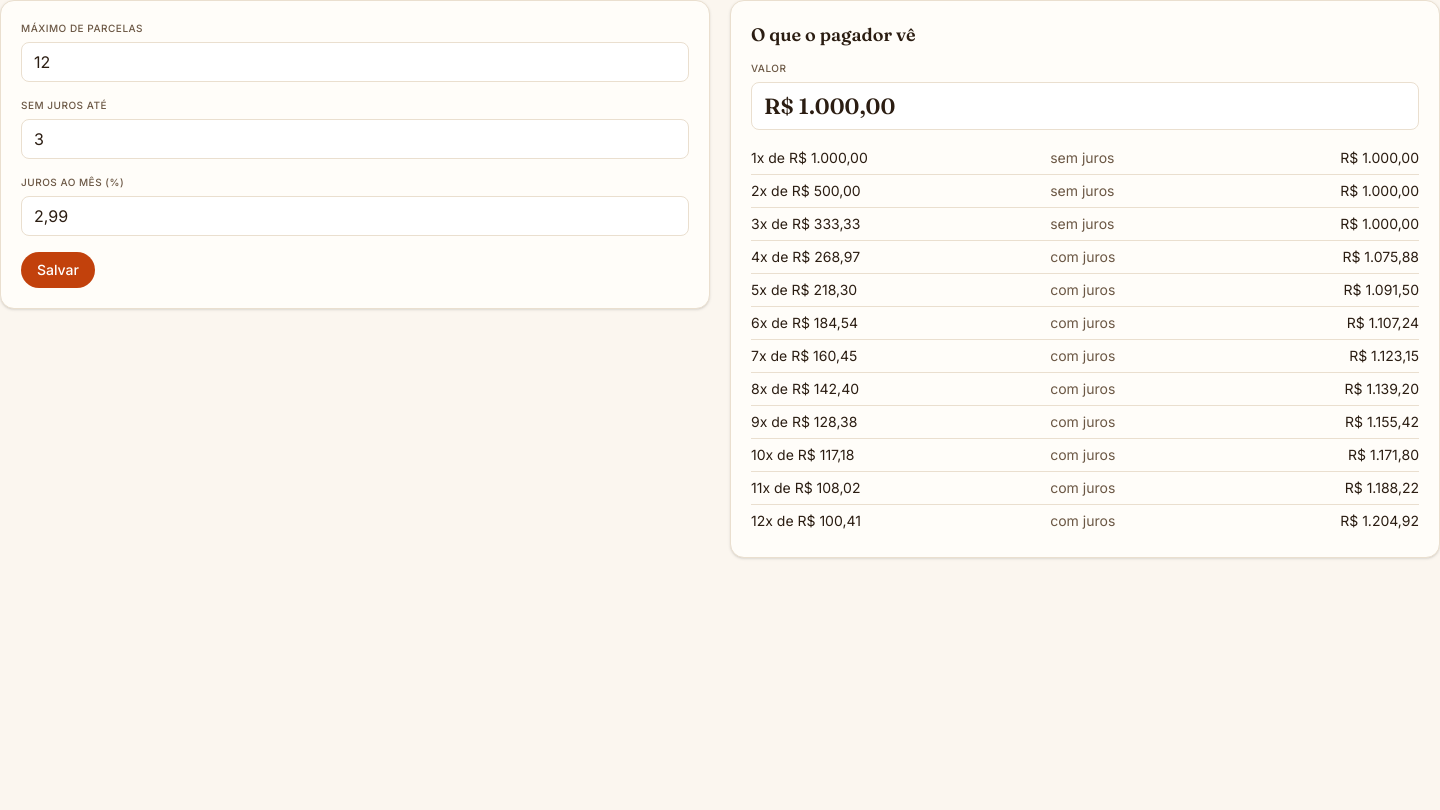
Test: InstallmentSettingsForm › sendsBpsAndShowsTheSavedState
The image size is (1440, 810).
Replace the text in the field labelled "Juros ao mês (%)" with "1,5" at point(355, 216), box [21,196,689,236]
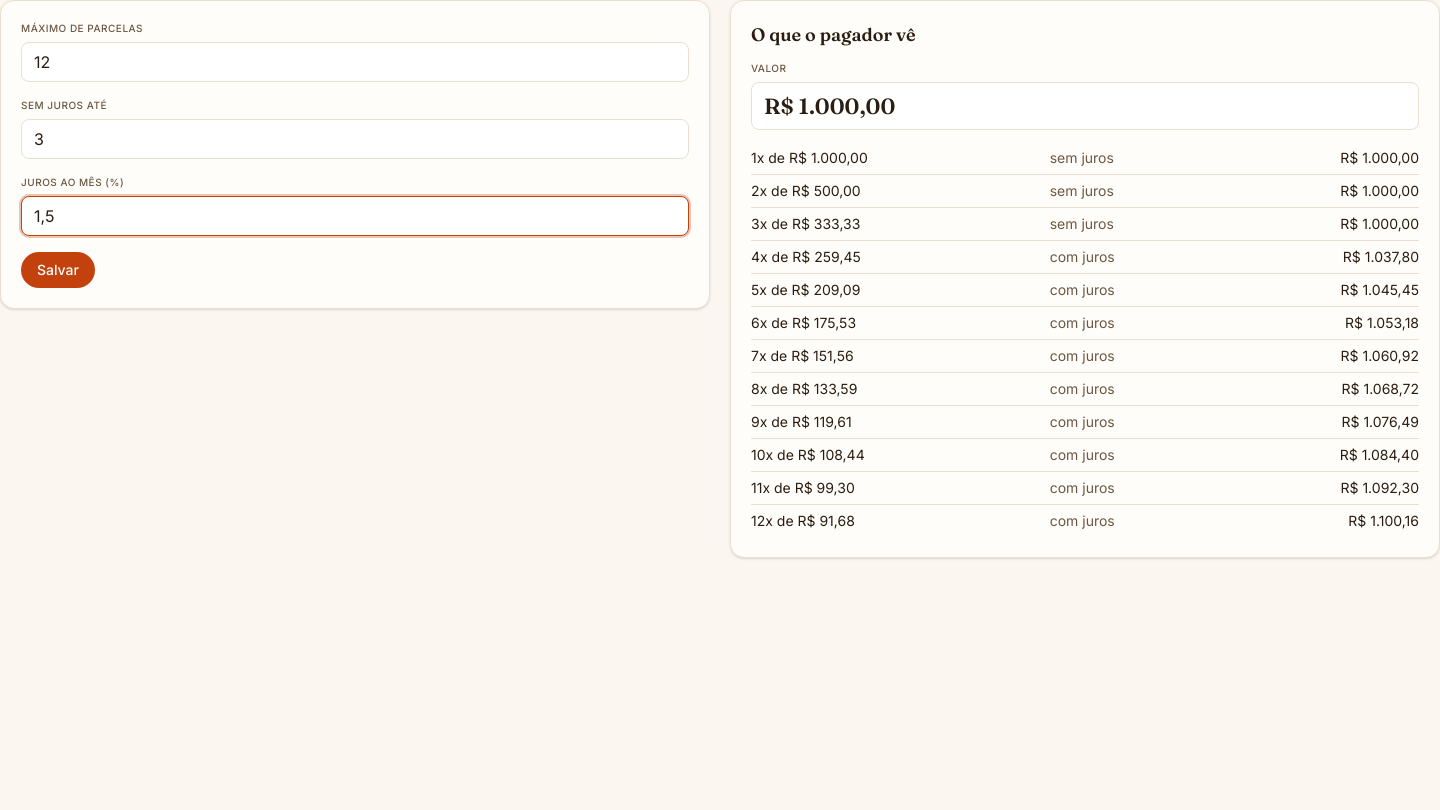
Click the button "Salvar".
click(58, 270)  # box [21,252,95,288]
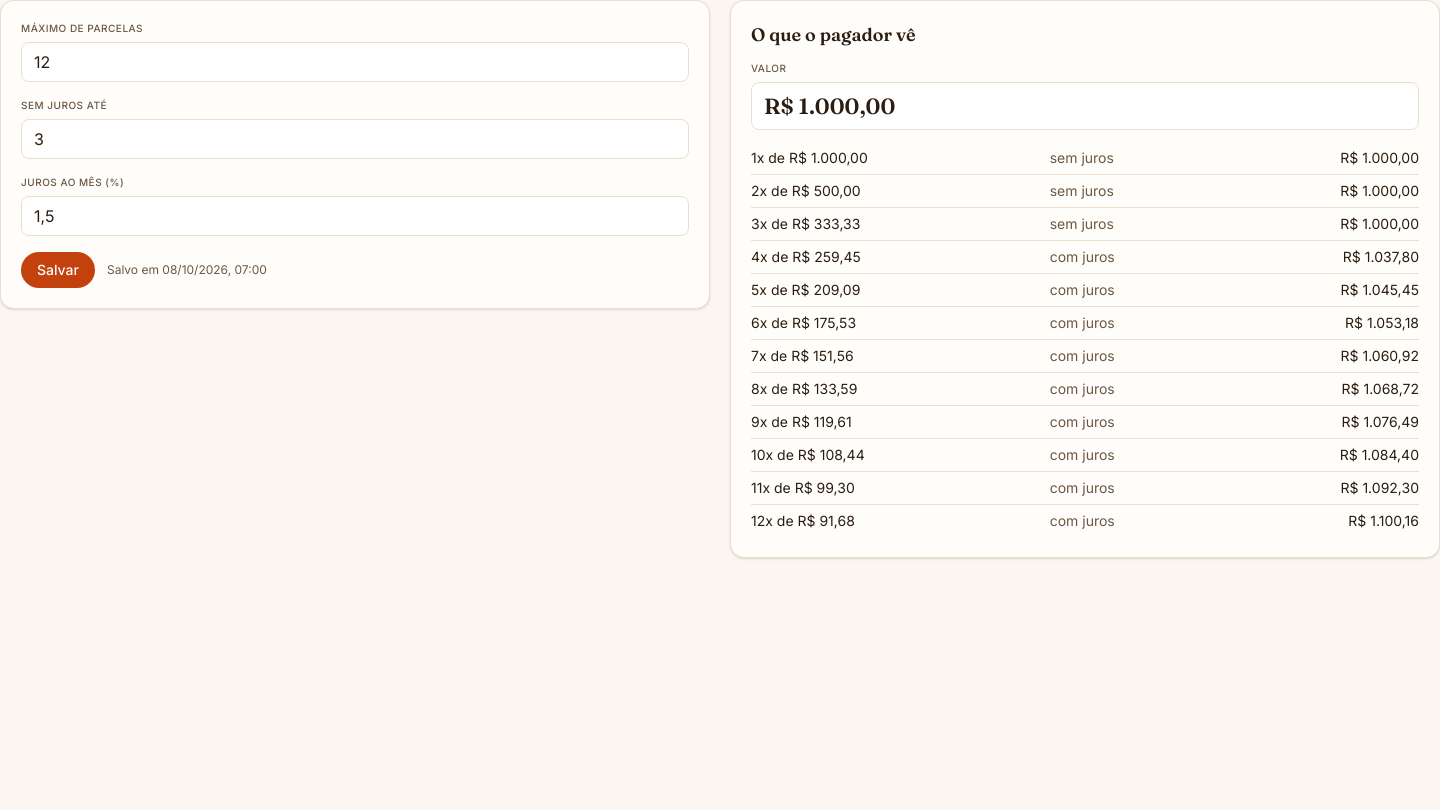
expect the text "Salvo em 08/10/2026, 07:00" is shown: met, box [107,262,267,278]
